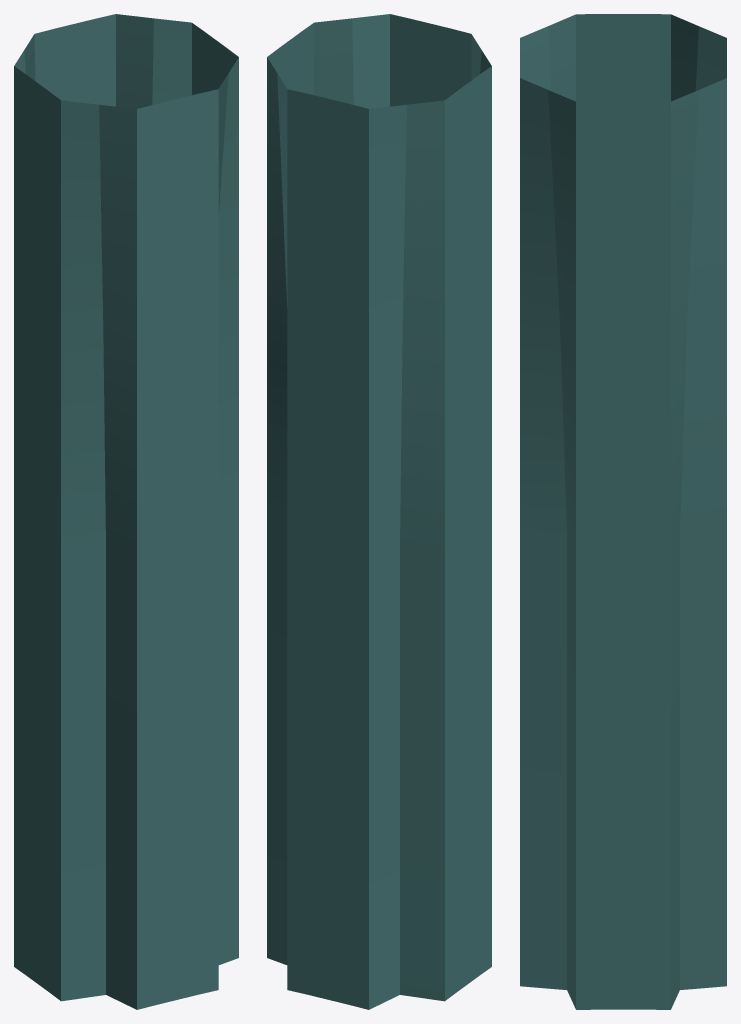
File: Arch_Post.fbx
3 renders of one model, left to right at view 1: azimuth 30°, elevation 25°; view 2: azimuth 150°, elevation 25°; view 3: azimuth 270°, elevation 25°, orthographic.
Visible parts, largest first — view 1: Arch_Post; view 2: Arch_Post; view 3: Arch_Post.
Boxes of the visible parts, x1,y1,x2,y2 form: Arch_Post: [14, 14, 238, 1009]; Arch_Post: [267, 14, 491, 1009]; Arch_Post: [520, 14, 726, 1009].
Bounding box in the file's own units: 82.36 × 399 × 82.36.
